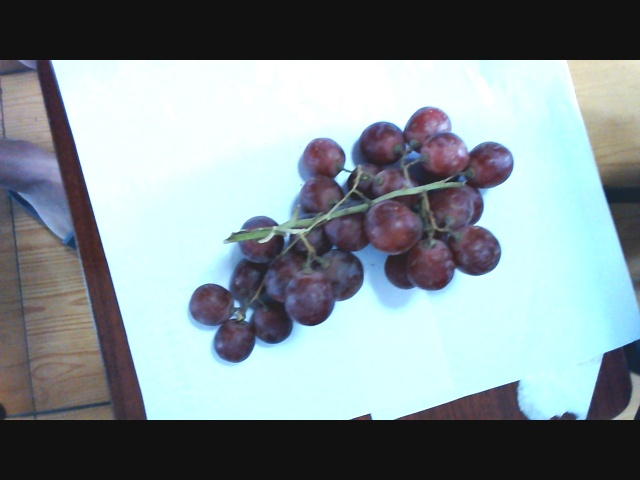grape: (172, 99, 525, 361)
